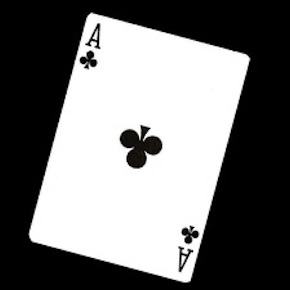AceOfClubs: (26, 9, 252, 285)
